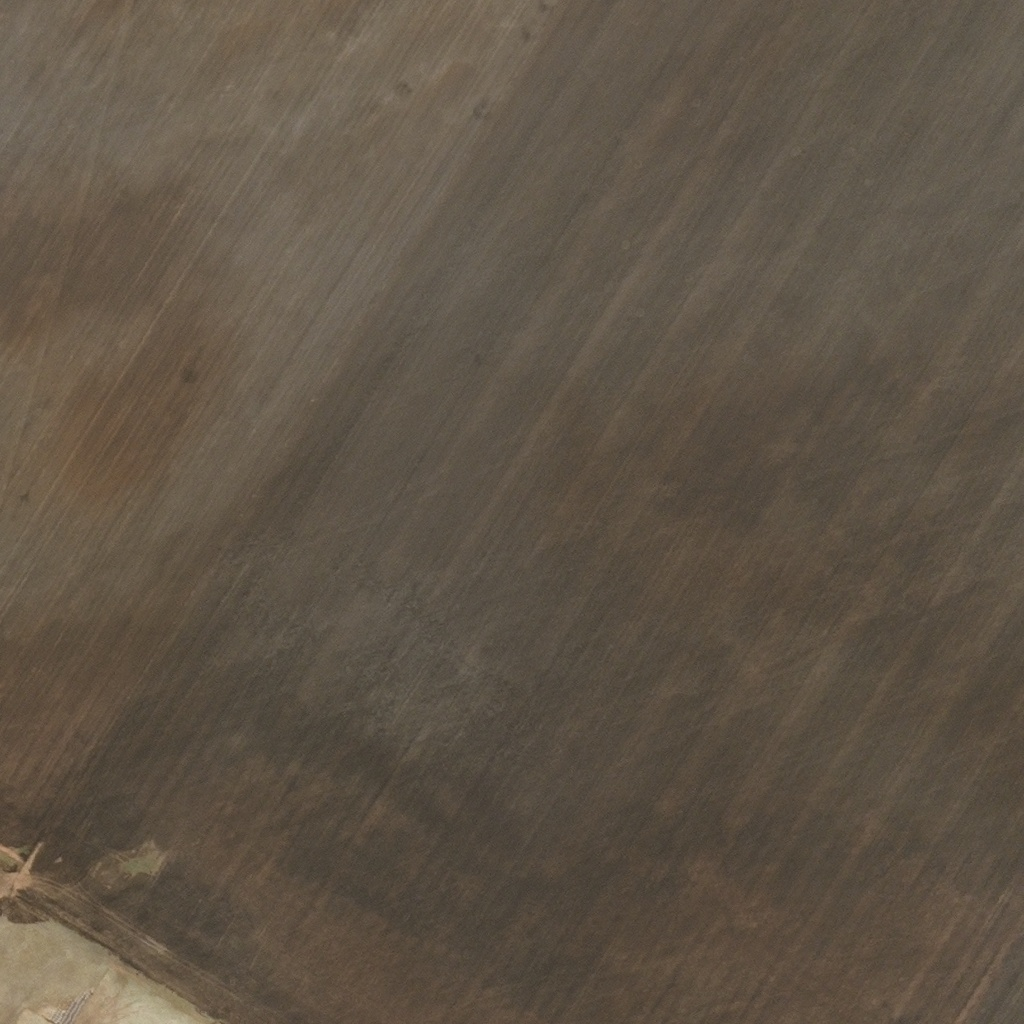4 un-classified: (223, 973, 236, 985)
